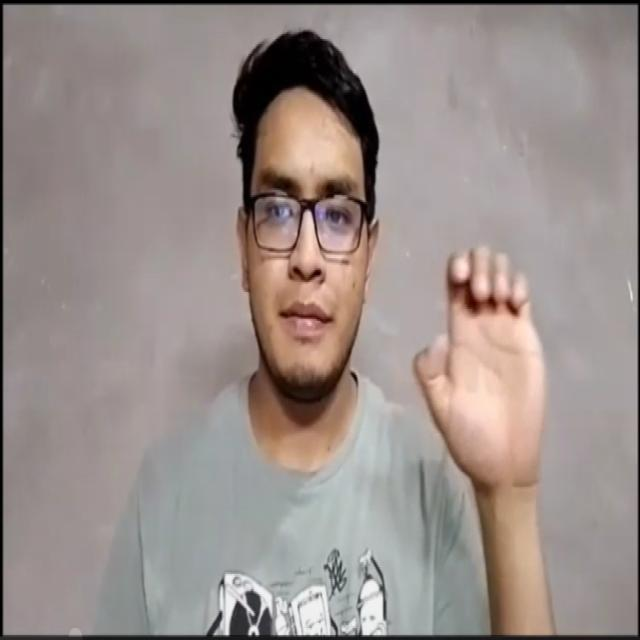E: (413, 219, 552, 532)
